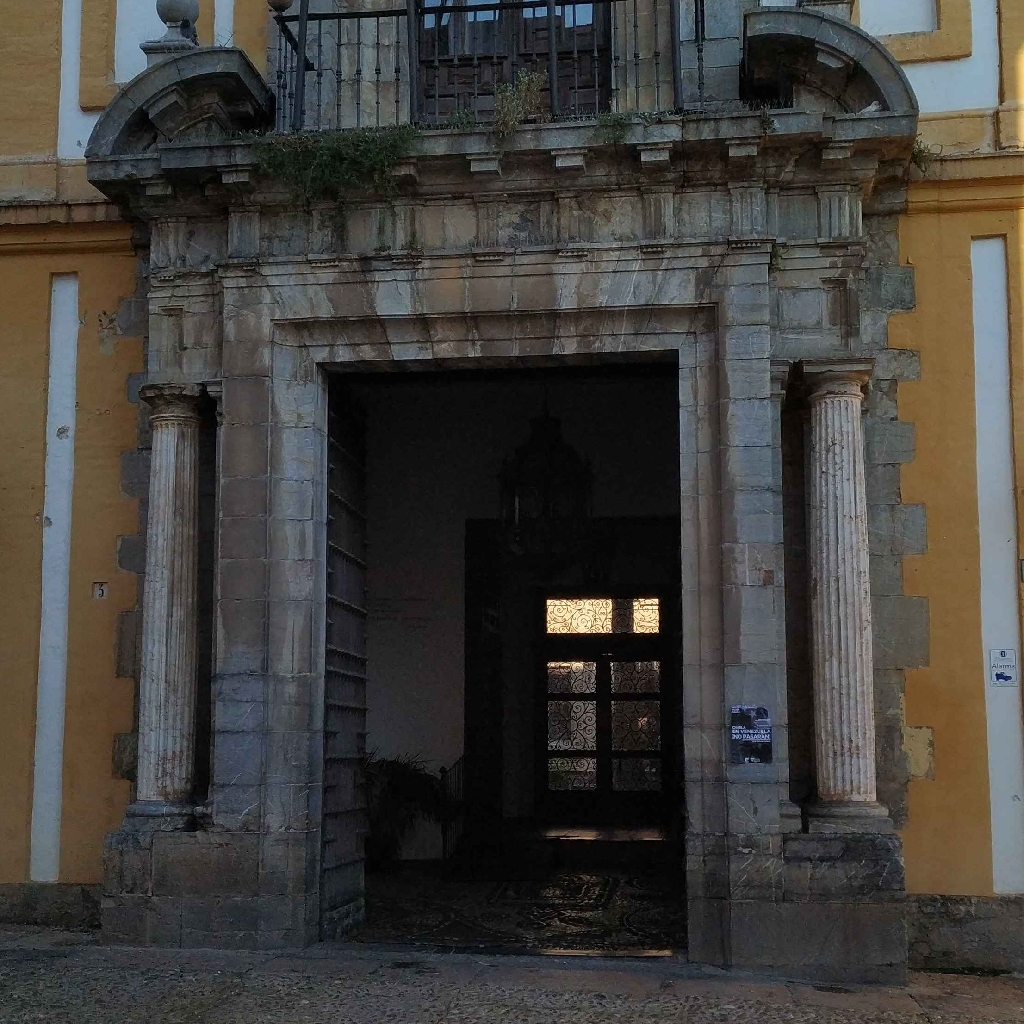fronton-partido: (79, 1, 924, 181)
vano-adintelado: (279, 293, 746, 915)
